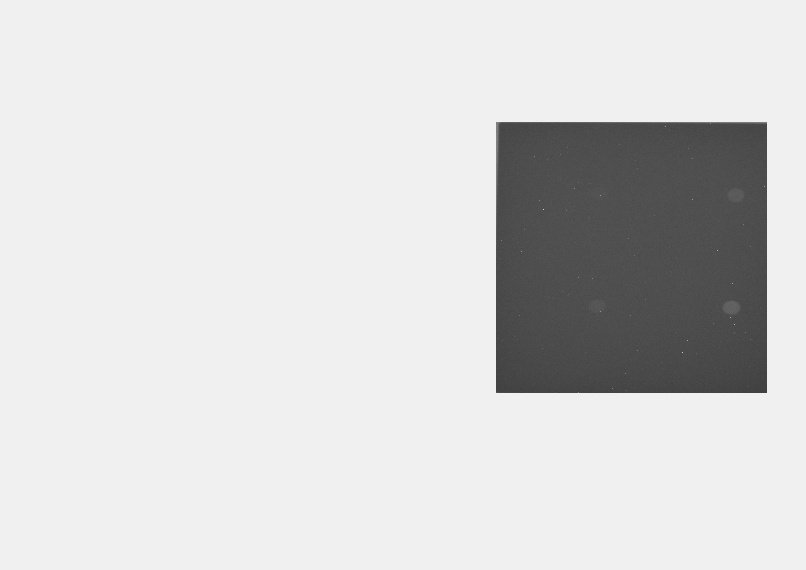bubble: (586, 298, 606, 314), (722, 299, 739, 315), (590, 186, 608, 200), (727, 187, 743, 202)
